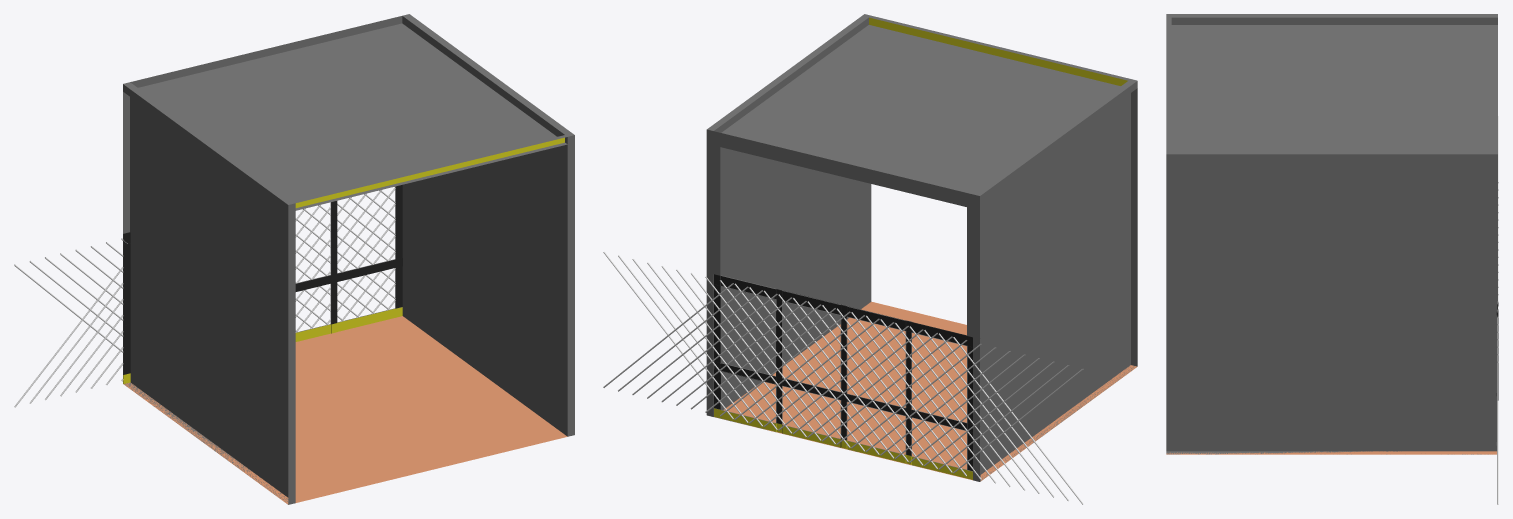
Rendered from elevator.fbx.
3 renders of one model, left to right at view 1: azimuth 30°, elevation 25°; view 2: azimuth 150°, elevation 25°; view 3: azimuth 270°, elevation 25°, orthographic. The views are drawn at different scales.
Parts seen in each view (by area): view 1: Cube, Plane; view 2: Cube, Plane; view 3: Cube, Plane.
Boxes of the visible parts, <box> form: Cube: <box>123,14,574,504</box>; Plane: <box>14,186,395,407</box>; Cube: <box>706,14,1137,481</box>; Plane: <box>603,251,1083,504</box>; Cube: <box>1166,14,1497,454</box>; Plane: <box>1497,116,1498,504</box>.
Bounding box in the file's own units: 2288 × 1302 × 1304.
